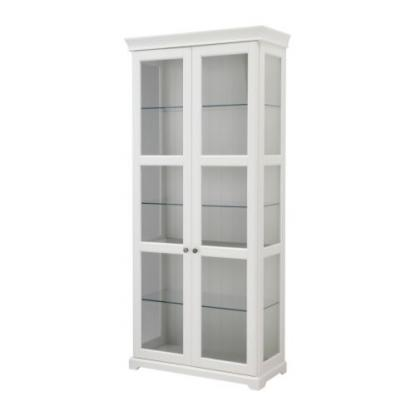Cabinet: (122, 22, 294, 391)
